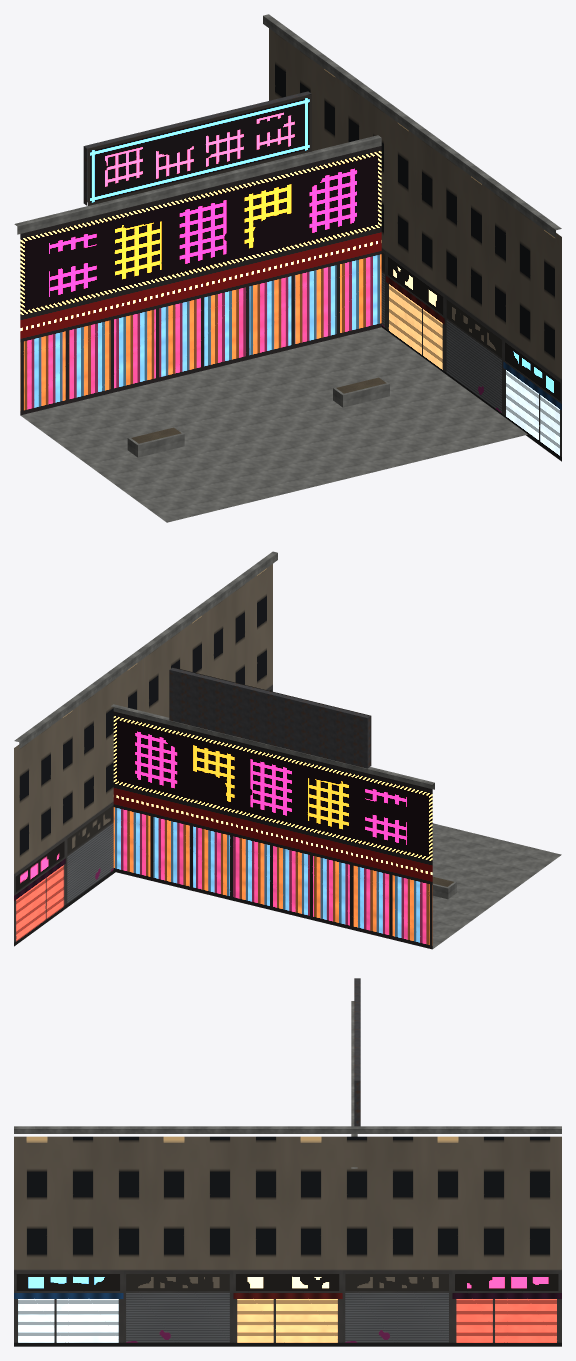
The model's file is night_pachinko_front.glb.
The picture shows the model from 3 angles, top to bottom: view 1: azimuth 30°, elevation 25°; view 2: azimuth 150°, elevation 25°; view 3: azimuth 270°, elevation 25°; orthographic projection. The views are drawn at different scales.
Visible parts, largest first — view 1: night_pachinko_front; view 2: night_pachinko_front; view 3: night_pachinko_front.
Boxes of the visible parts, x1,y1,x2,y2 form: night_pachinko_front: (14,14,561,522); night_pachinko_front: (14,551,561,949); night_pachinko_front: (14,978,561,1346).
Bounding box in the file's own units: 18.8 × 12.3 × 26.
Materials: 7 (7 with a texture image).
